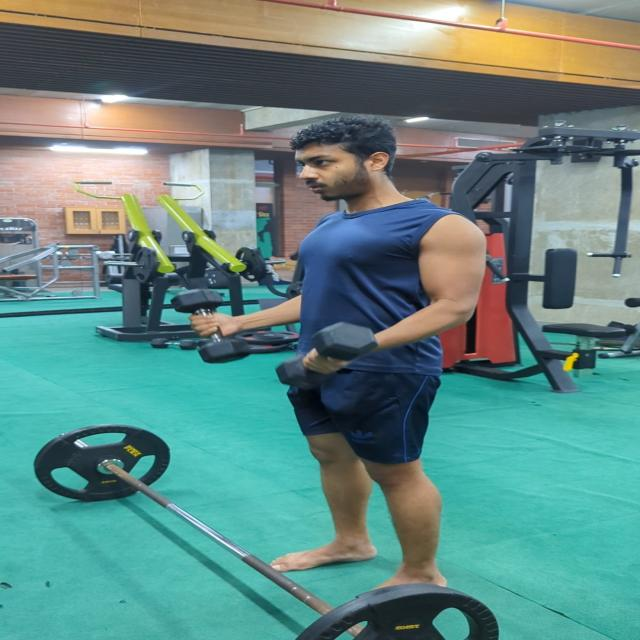Normal_DumbbellBicepCurls: (187, 118, 490, 592)
